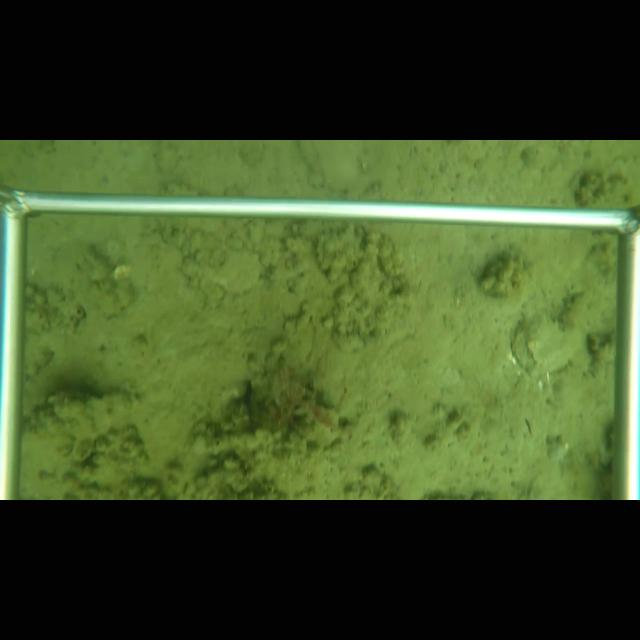Oyster-Closed: (510, 313, 587, 376)
